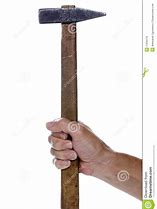hammer: (36, 3, 107, 209)
